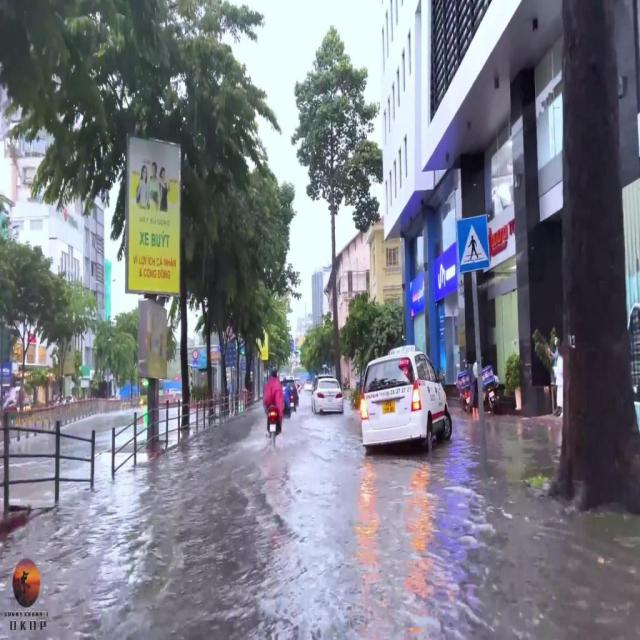duong_nguoi_di_bo_sang_ngang: (458, 214, 490, 274)
